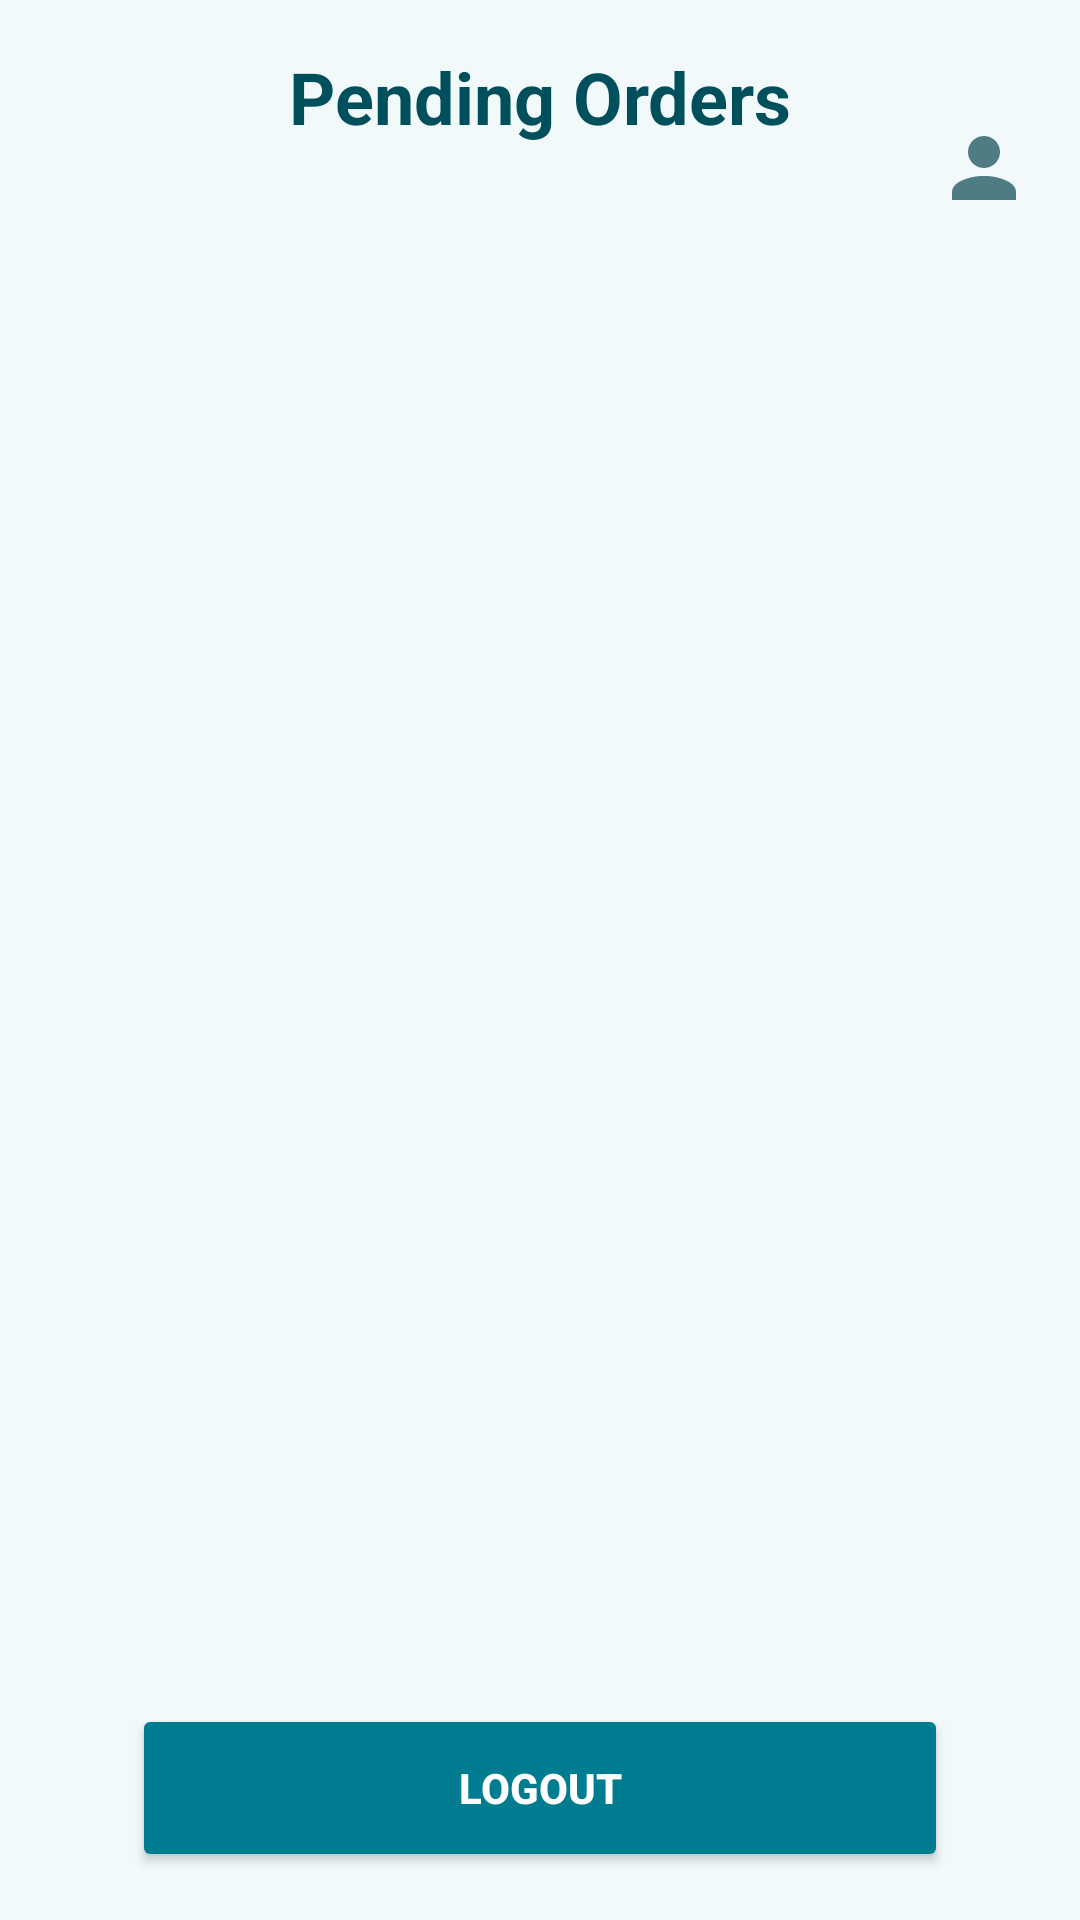

Named icons in this screenshot (1080*1920) and their bounding boxes, (x1, y1, x2, y2):
Profile: (952, 136, 1016, 200)
